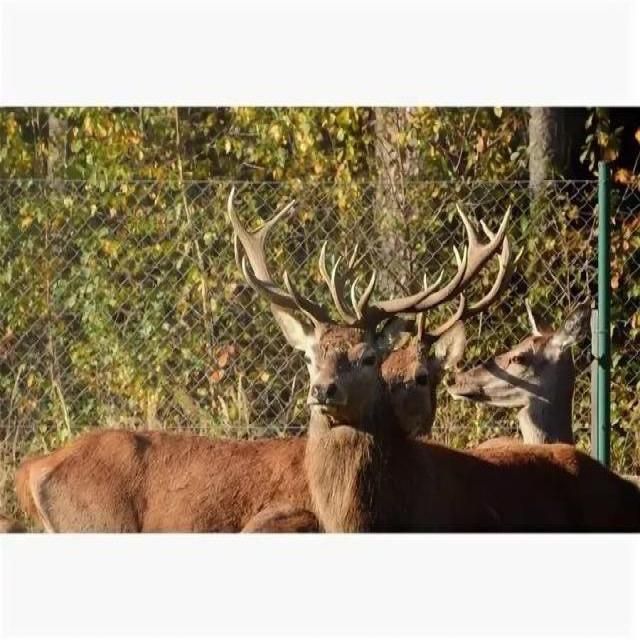deer: (150, 155, 560, 590)
